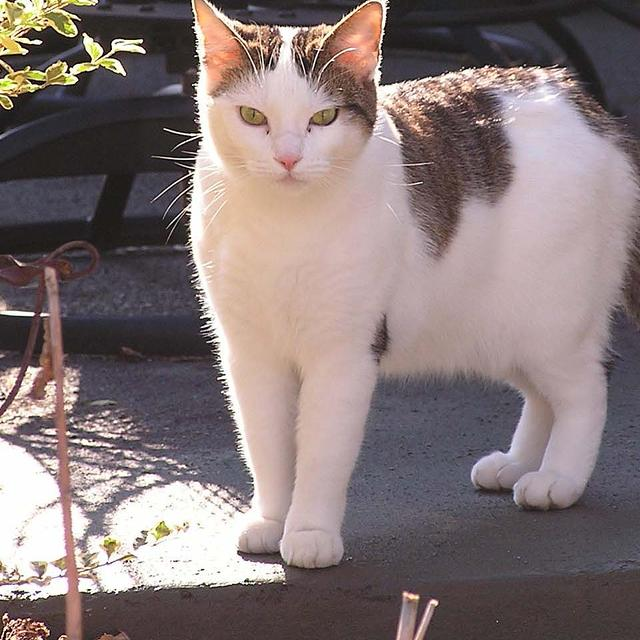animals: (193, 0, 377, 167)
